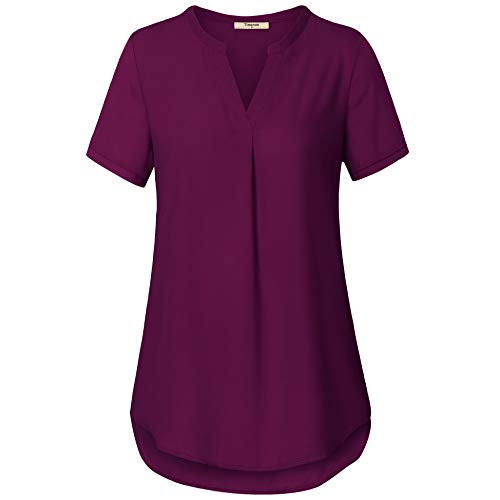C_short blouse: (85, 6, 408, 492)
